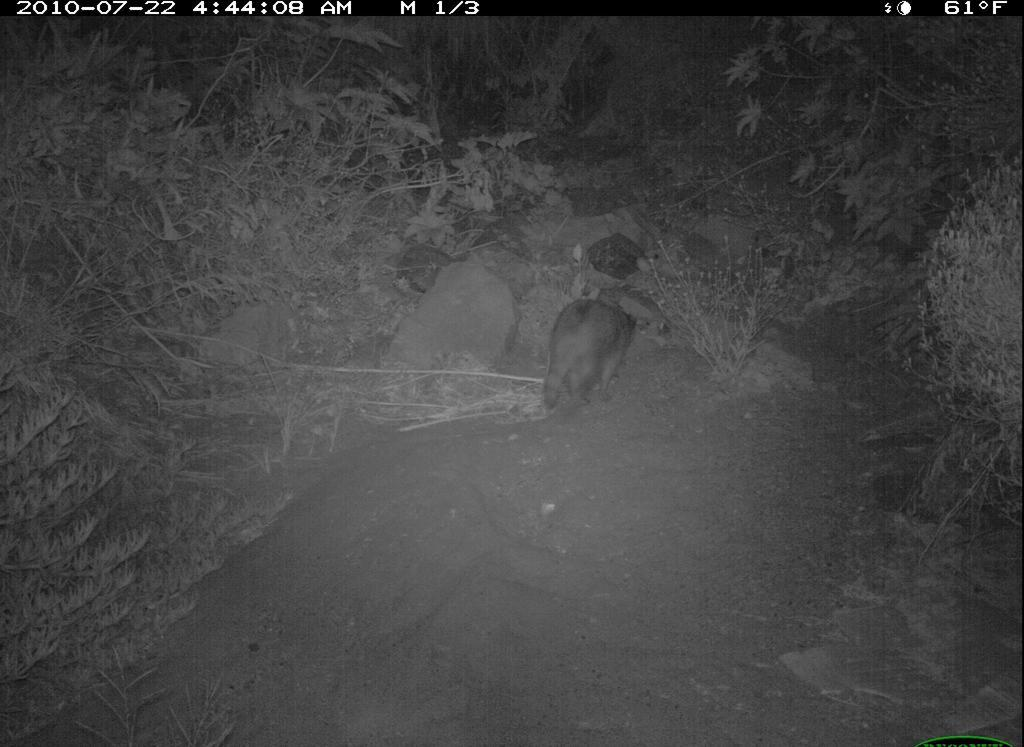raccoon: (533, 281, 643, 426)
